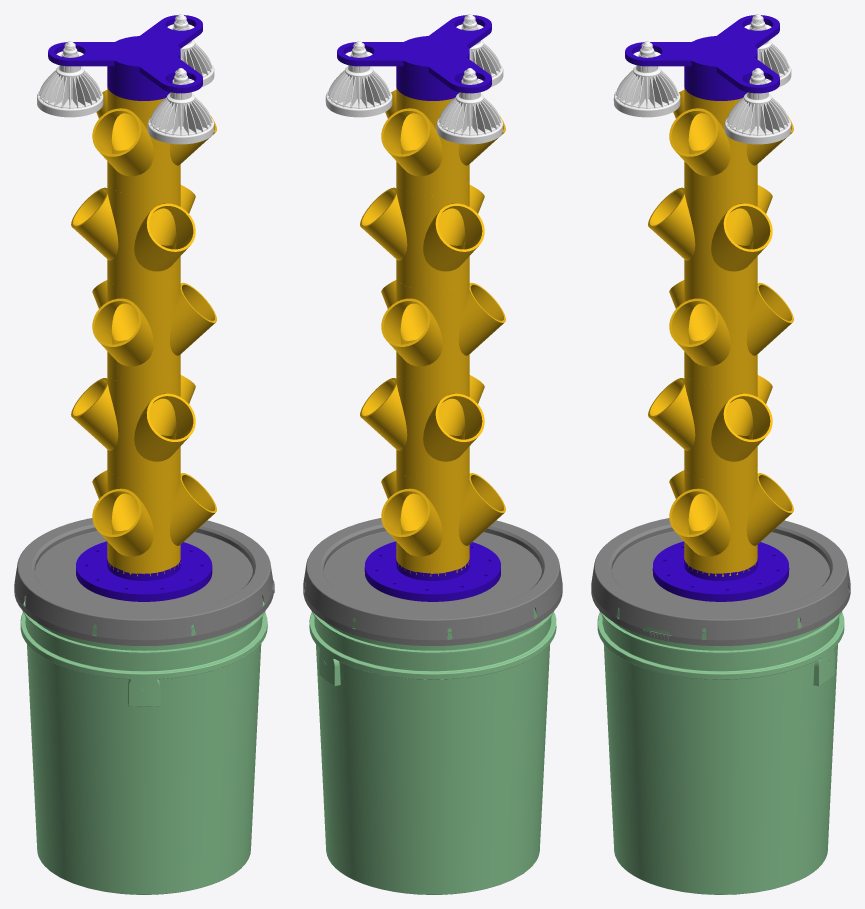
3 views of the same model, side by side, from view 1: azimuth 30°, elevation 25°; view 2: azimuth 150°, elevation 25°; view 3: azimuth 270°, elevation 25° (orthographic).
Visible parts, largest first — view 1: Body1, Body1.003, Body1.007, Body1.009, Body1.010, Body1.008, Body1.001, Body1.006, Body1.002, Body1.011, Body1.012, Body1.004 (+1 smaller); view 2: Body1, Body1.003, Body1.007, Body1.009, Body1.010, Body1.008, Body1.001, Body1.006, Body1.002, Body1.005, Body1.012, Body1.004 (+1 smaller); view 3: Body1, Body1.003, Body1.009, Body1.007, Body1.010, Body1.008, Body1.001, Body1.006, Body1.002, Body1.005, Body1.011, Body1.004 (+1 smaller).
Boxes of the visible parts, x1,y1,x2,y2 form: Body1: [20, 597, 267, 894]; Body1.003: [14, 518, 274, 645]; Body1.007: [92, 277, 216, 386]; Body1.009: [71, 181, 195, 291]; Body1.010: [71, 372, 195, 481]; Body1.008: [92, 467, 216, 576]; Body1.001: [92, 87, 216, 196]; Body1.006: [48, 15, 202, 93]; Body1.002: [76, 541, 212, 601]; Body1.011: [147, 68, 214, 144]; Body1.012: [37, 41, 103, 117]; Body1.004: [107, 58, 180, 100]; Body1: [309, 608, 556, 894]; Body1.003: [303, 518, 562, 645]; Body1.007: [381, 277, 505, 386]; Body1.009: [360, 182, 484, 291]; Body1.010: [360, 372, 484, 481]; Body1.008: [381, 467, 505, 576]; Body1.001: [381, 87, 505, 195]; Body1.006: [337, 15, 491, 93]; Body1.002: [364, 541, 500, 601]; Body1.005: [325, 41, 392, 117]; Body1.012: [436, 68, 503, 144]; Body1.004: [396, 58, 469, 100]; Body1: [597, 608, 844, 894]; Body1.003: [591, 518, 850, 645]; Body1.009: [648, 181, 772, 291]; Body1.007: [669, 276, 793, 386]; Body1.010: [648, 372, 772, 481]; Body1.008: [669, 467, 793, 576]; Body1.001: [669, 87, 793, 195]; Body1.006: [625, 15, 779, 93]; Body1.002: [652, 541, 789, 601]; Body1.005: [724, 68, 791, 144]; Body1.011: [613, 41, 680, 117]; Body1.004: [684, 58, 757, 100].
Size of the model in its own units: 0.314 by 1.08 by 0.314.
